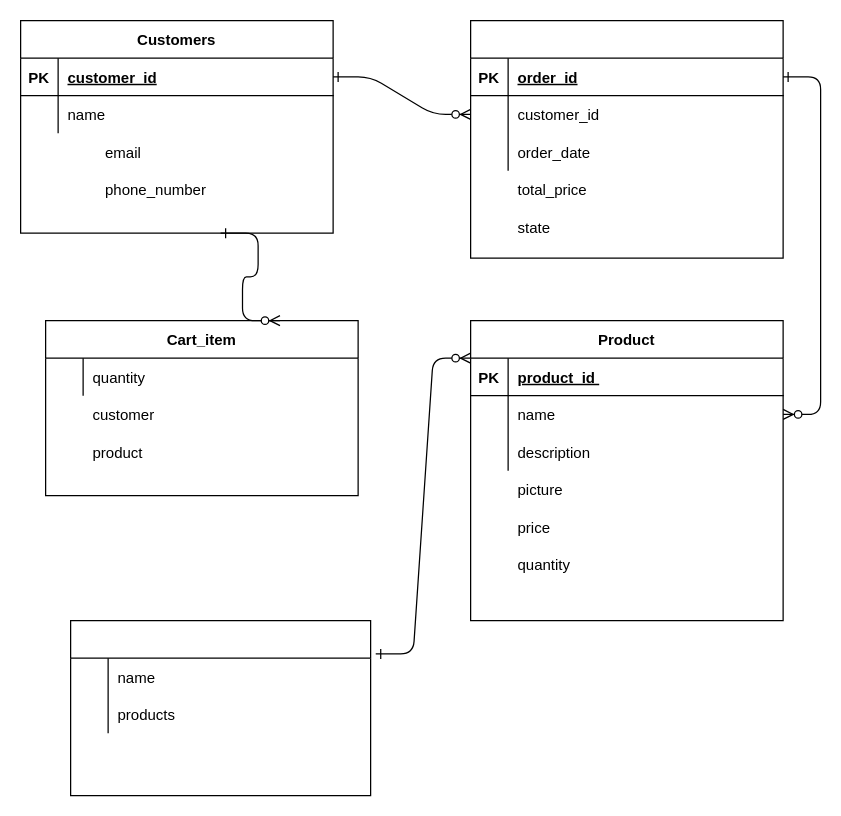
Image size: 841x816. Some labels were removed from this diagram. Here are the shapes that lost their labels. From the top down, the box of each, then its label:
(469, 19, 783, 258): Orders
(69, 619, 371, 796): Category
